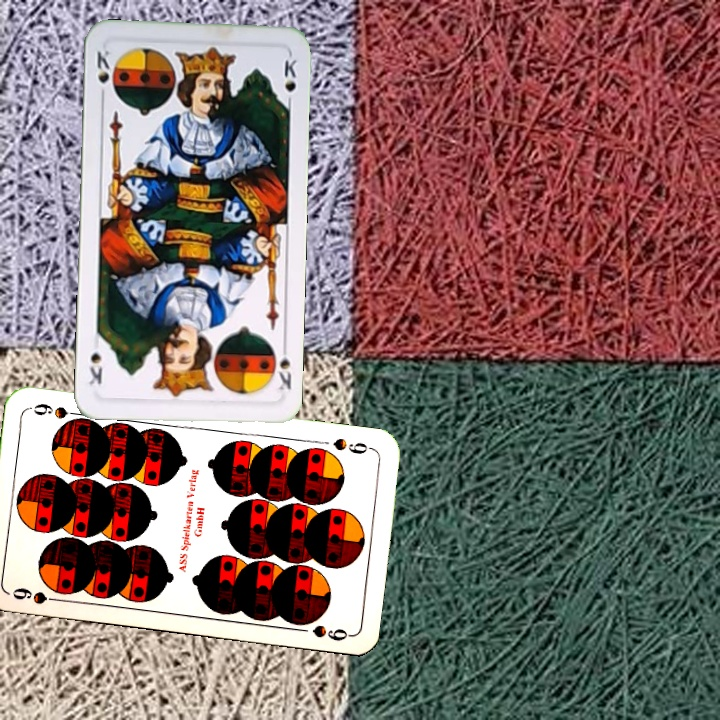S9: (5, 581, 65, 607), (329, 434, 376, 457)
SK: (272, 339, 294, 393), (93, 46, 113, 103)
